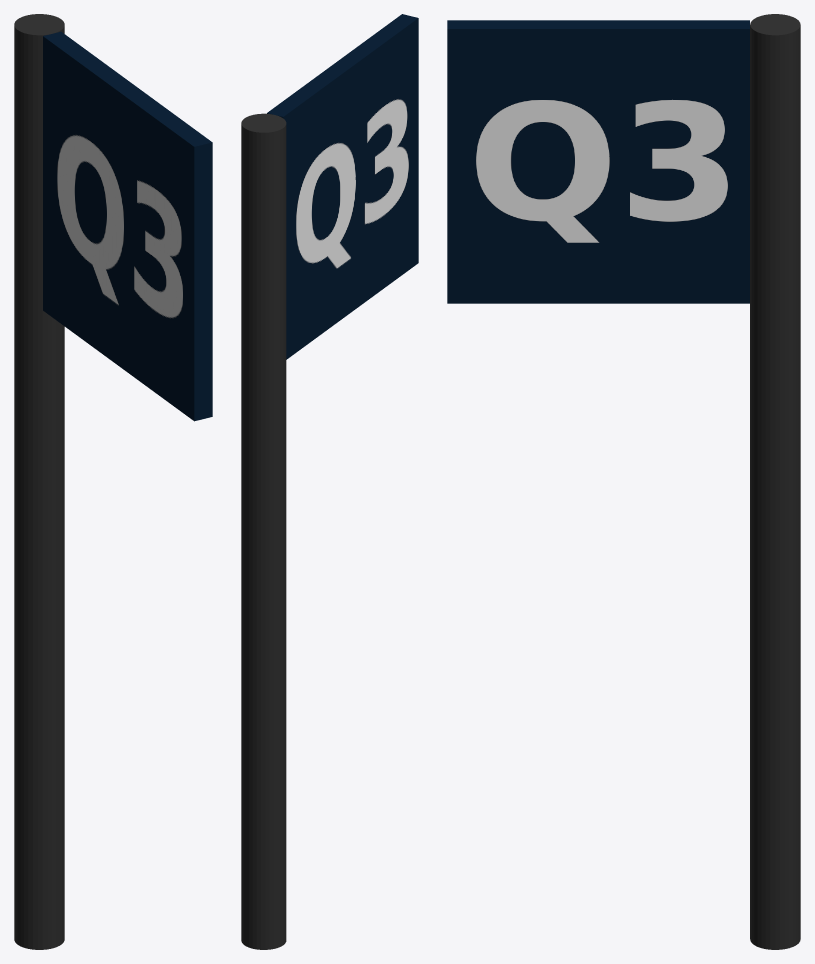
The model's file is start_flag.dae.
3 renders of one model, left to right at view 1: azimuth 30°, elevation 25°; view 2: azimuth 150°, elevation 25°; view 3: azimuth 270°, elevation 25°, orthographic. The views are drawn at different scales.
Visible parts, largest first — view 1: flag; view 2: flag; view 3: flag.
Part boxes in pixels (x1=…): flag: x1=14, y1=14, x2=212, y2=949; flag: x1=241, y1=14, x2=418, y2=949; flag: x1=447, y1=14, x2=800, y2=949.
Bounding box in the file's own units: 0.1 × 0.7 × 2.
2 materials, 1 textured.
